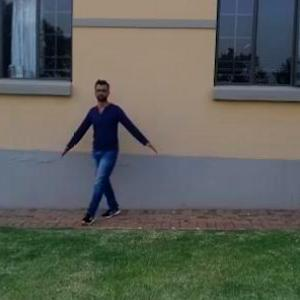land: (65, 83, 161, 230)
